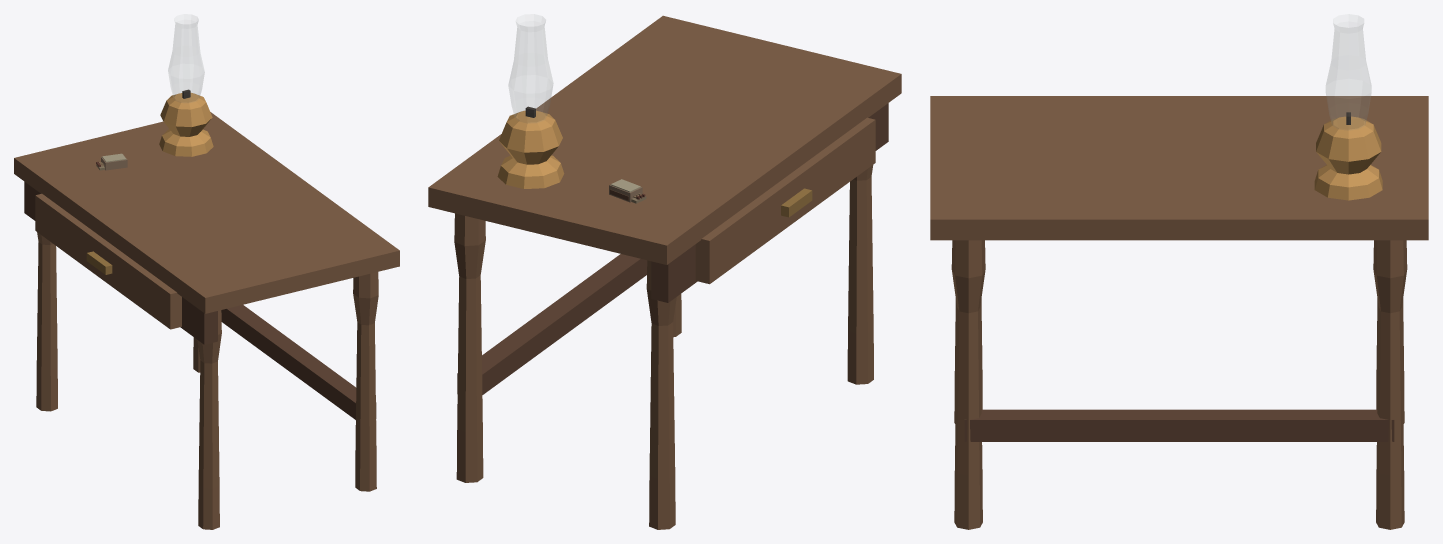
The model's file is hargrove_room04_desk.glb.
3 renders of one model, left to right at view 1: azimuth 30°, elevation 25°; view 2: azimuth 150°, elevation 25°; view 3: azimuth 270°, elevation 25°, orthographic. The views are drawn at different scales.
Parts seen in each view (by area): view 1: hargrove_room04_desk, KeroseneBurner, KeroseneChimney; view 2: hargrove_room04_desk, KeroseneBurner, KeroseneChimney; view 3: hargrove_room04_desk, KeroseneBurner, KeroseneChimney.
Boxes of the visible parts, <box> form: hargrove_room04_desk: <box>14,112,399,529</box>; KeroseneBurner: <box>159,89,213,156</box>; KeroseneChimney: <box>168,14,204,102</box>; hargrove_room04_desk: <box>428,15,901,529</box>; KeroseneBurner: <box>497,106,564,188</box>; KeroseneChimney: <box>508,14,553,122</box>; hargrove_room04_desk: <box>930,96,1428,529</box>; KeroseneBurner: <box>1314,112,1382,200</box>; KeroseneChimney: <box>1326,14,1371,129</box>.
Size of the model in its own units: 0.684 by 1.16 by 1.09.
